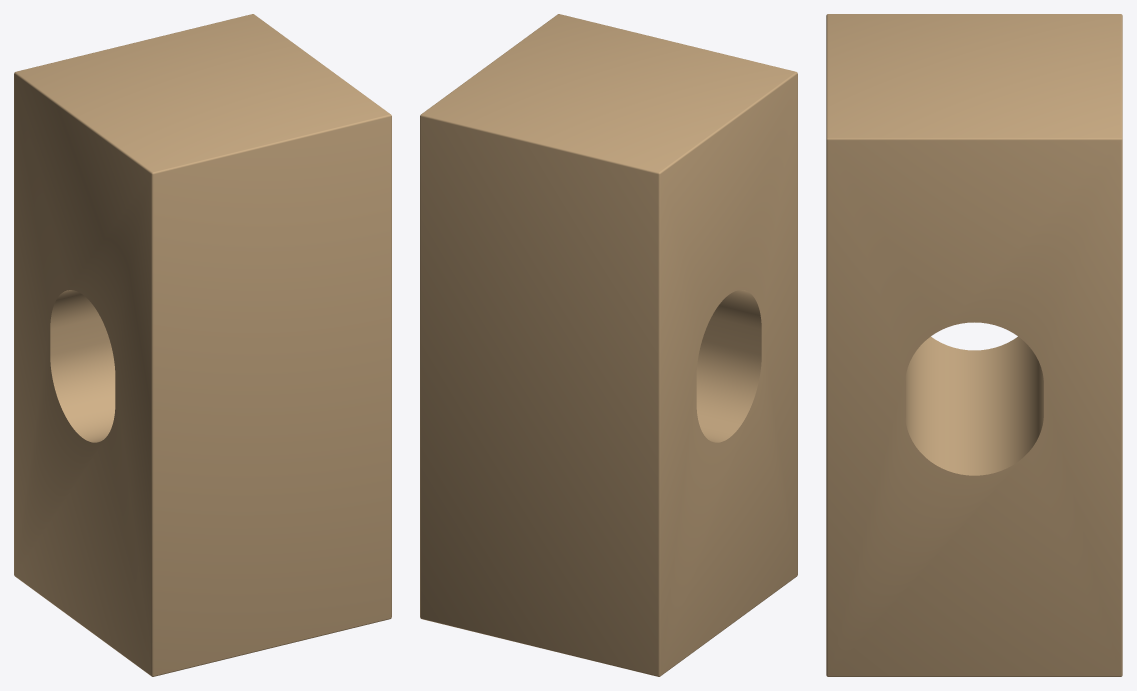
File: mech_checkpoint_l3.glb
The picture shows the model from 3 angles, left to right: view 1: azimuth 30°, elevation 25°; view 2: azimuth 150°, elevation 25°; view 3: azimuth 270°, elevation 25°; orthographic projection. The views are drawn at different scales.
Parts seen in each view (by area): view 1: mech_checkpoint_l3_lod0; view 2: mech_checkpoint_l3_lod0; view 3: mech_checkpoint_l3_lod0.
Part boxes in pixels (x1,y1,x2,y2): mech_checkpoint_l3_lod0: [14, 14, 391, 676]; mech_checkpoint_l3_lod0: [420, 14, 797, 676]; mech_checkpoint_l3_lod0: [826, 14, 1122, 676].
Size of what is drawn, in the model's own units: 0.0596 by 0.1196 by 0.0596.
